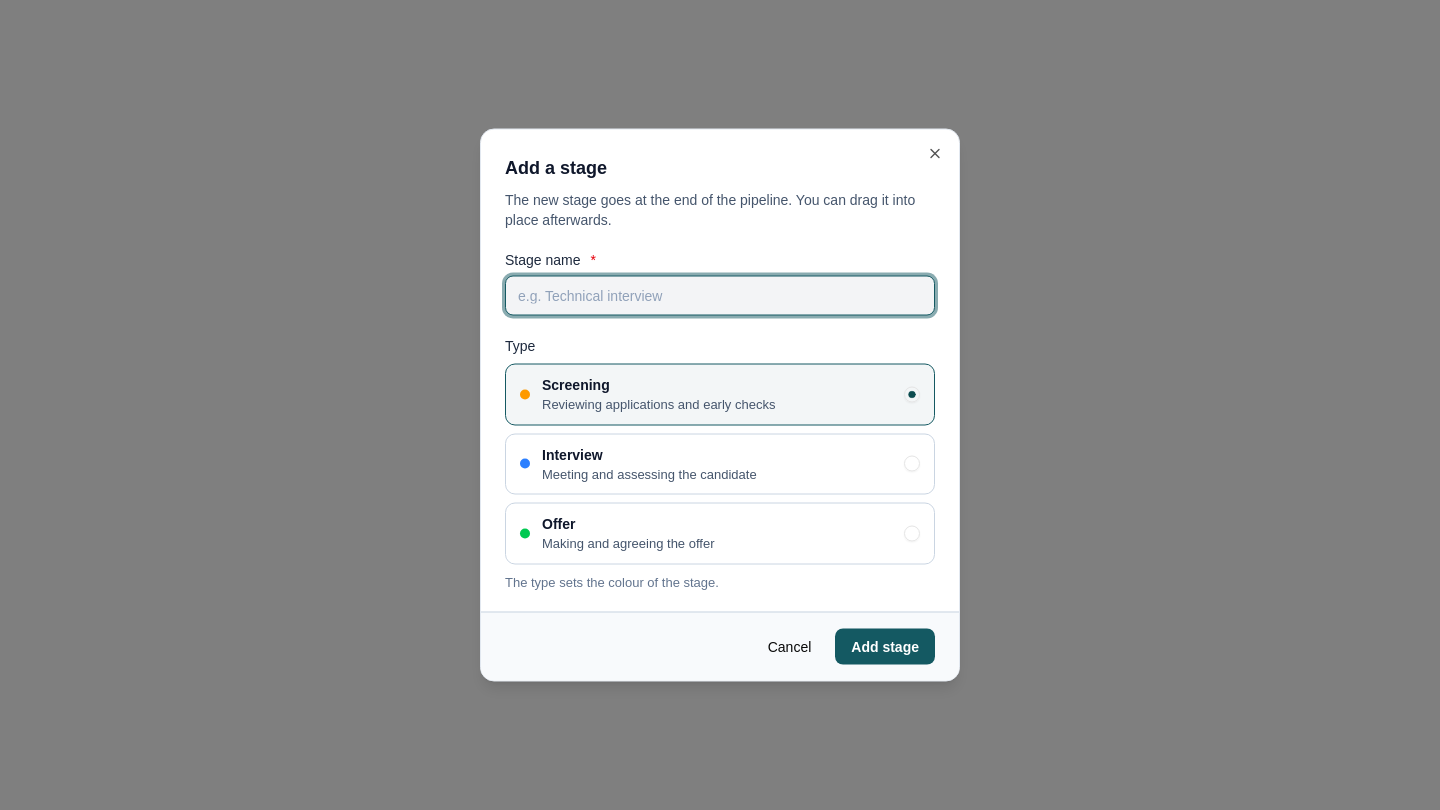
Test: StageDialog › says what is missing instead of doing nothing
Click the button "Add stage". click: (885, 646)
box: top-left (835, 628), bottom-right (935, 664)
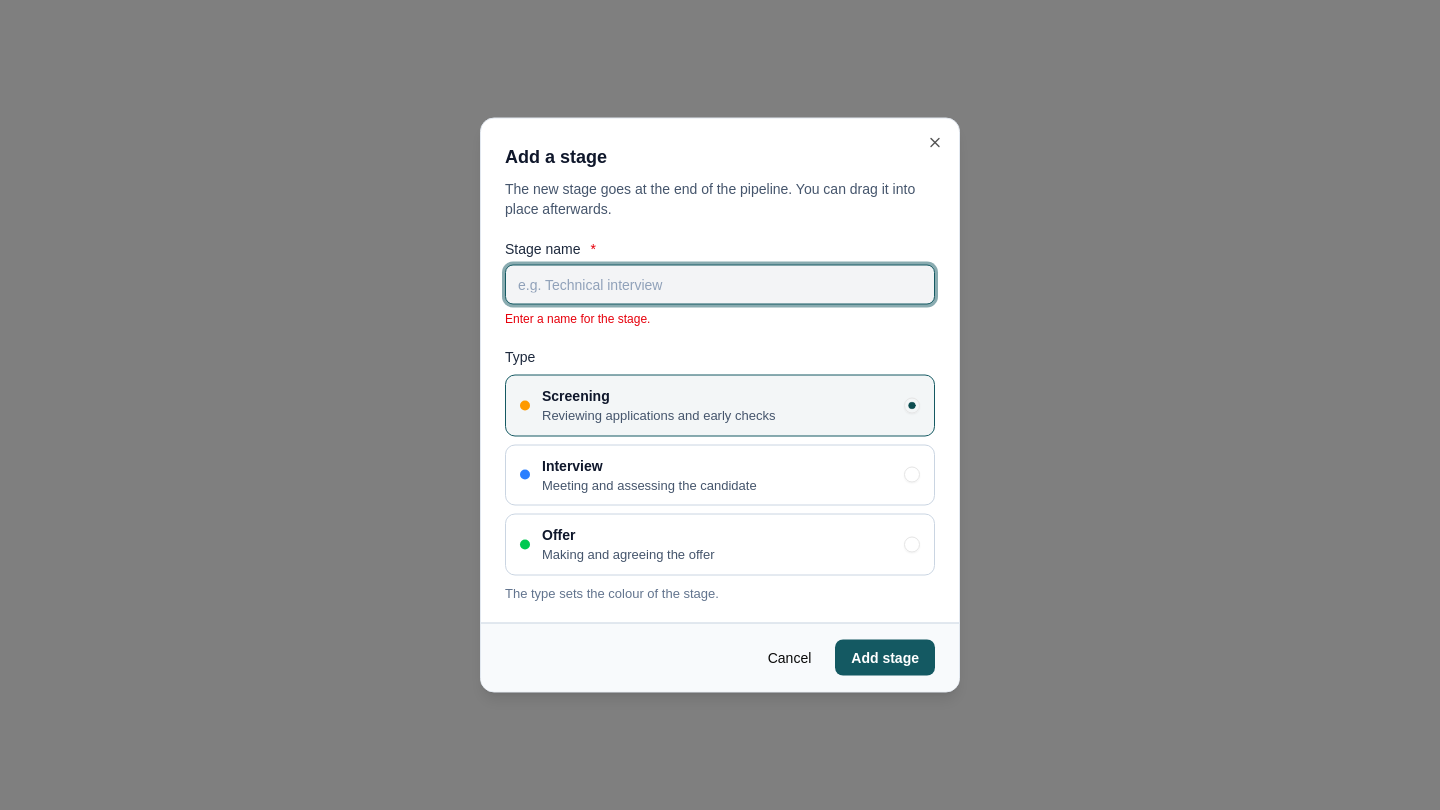
Result: the text "Enter a name for the stage." is shown at top-left (505, 312), bottom-right (650, 326)
